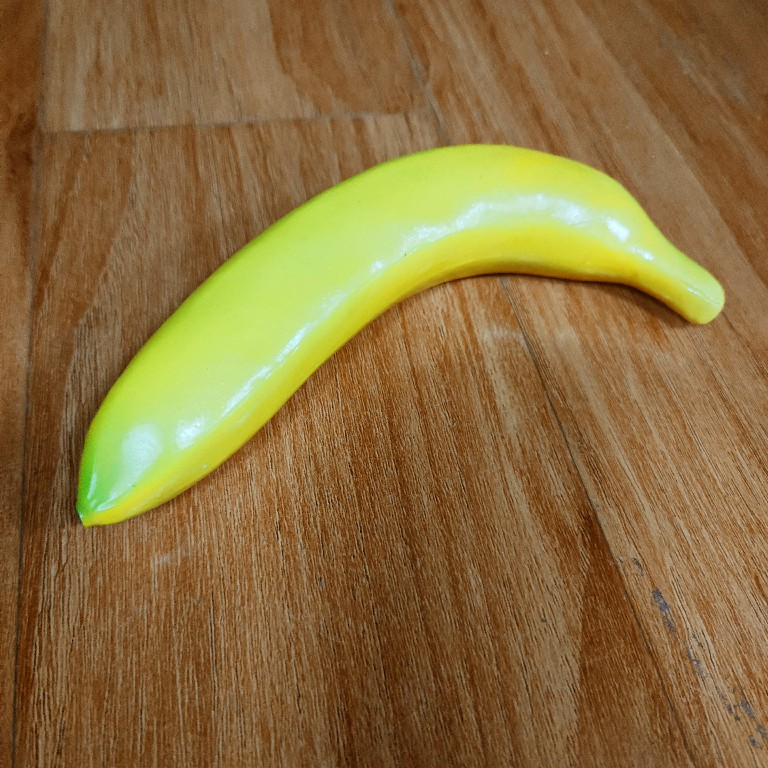fruit_banana: (72, 139, 729, 530)
